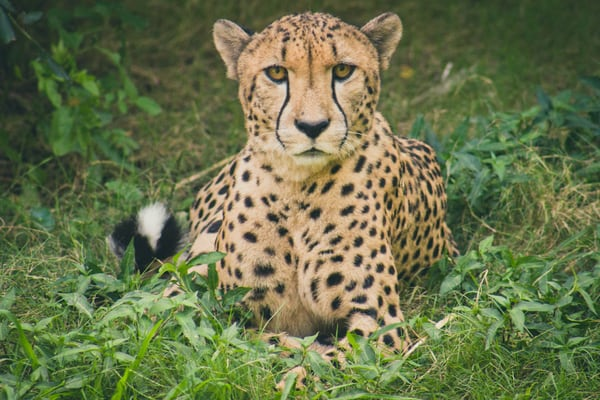cheetah: (187, 2, 427, 188)
